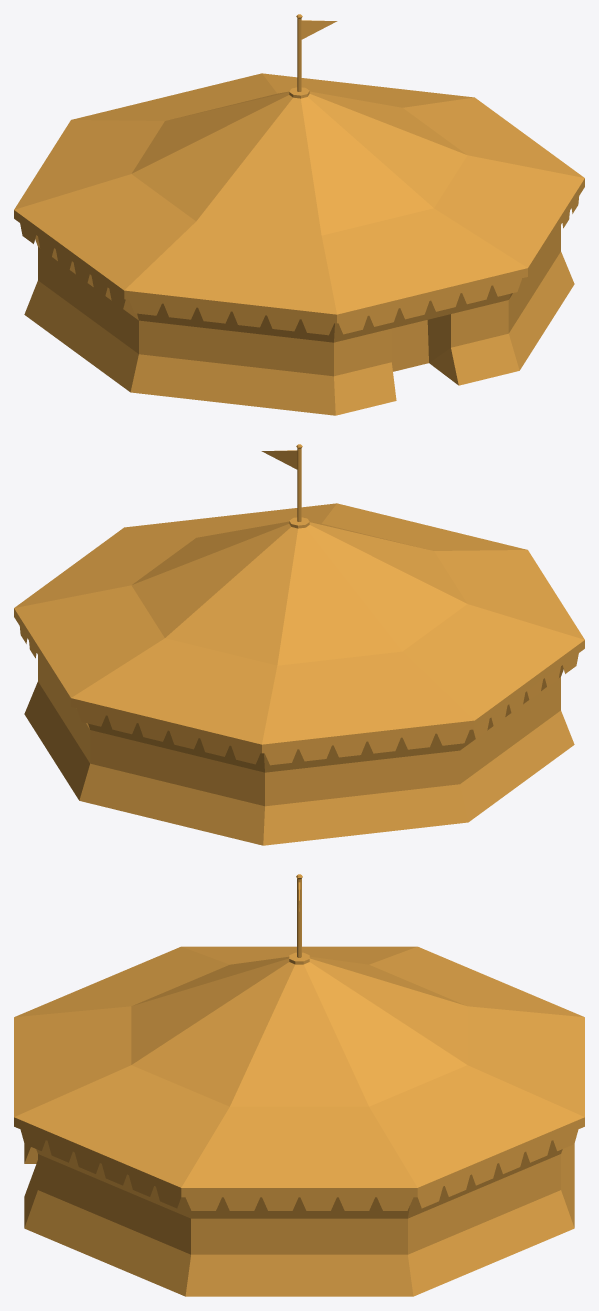
Rendered from tent-circus-big.glb.
3 views of the same model, one above another, from view 1: azimuth 30°, elevation 25°; view 2: azimuth 150°, elevation 25°; view 3: azimuth 270°, elevation 25° (orthographic). The views are drawn at different scales.
Visible parts, largest first — view 1: tent-circus-big; view 2: tent-circus-big; view 3: tent-circus-big.
Boxes of the visible parts, left/top/right/bottom form: tent-circus-big: left=14, top=14, right=584, bottom=415; tent-circus-big: left=14, top=444, right=584, bottom=845; tent-circus-big: left=14, top=874, right=584, bottom=1296.
Bounding box in the file's own units: 16.44 × 9.7 × 16.44.
